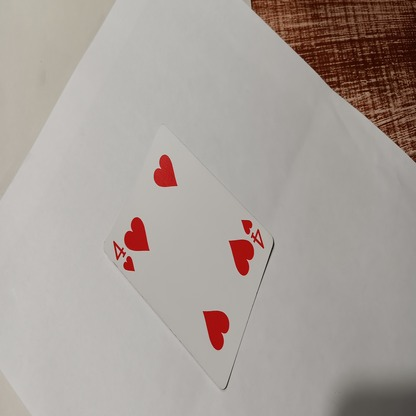4h: (111, 240, 135, 272), (240, 219, 265, 249)
